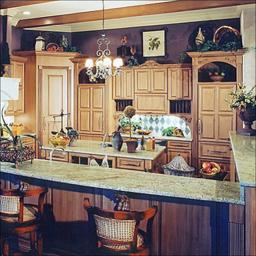Matera: (231, 88, 255, 136)
